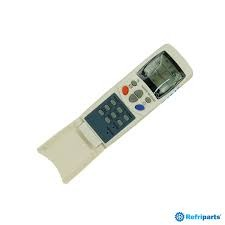remote control: (25, 37, 195, 184)
